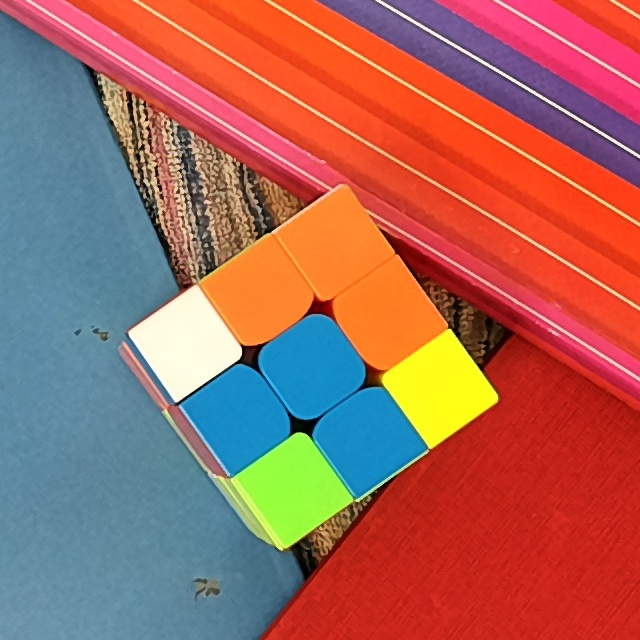tile: (356, 285, 419, 348), (281, 337, 343, 398), (209, 387, 270, 448), (228, 265, 291, 324), (302, 215, 362, 276), (335, 408, 394, 470), (410, 359, 470, 418), (264, 459, 323, 518), (157, 315, 215, 373)
